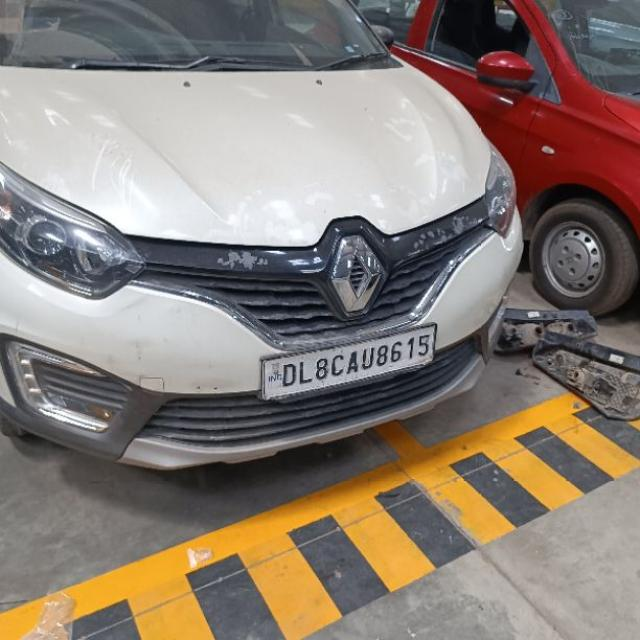license_plate: (258, 322, 437, 402)
